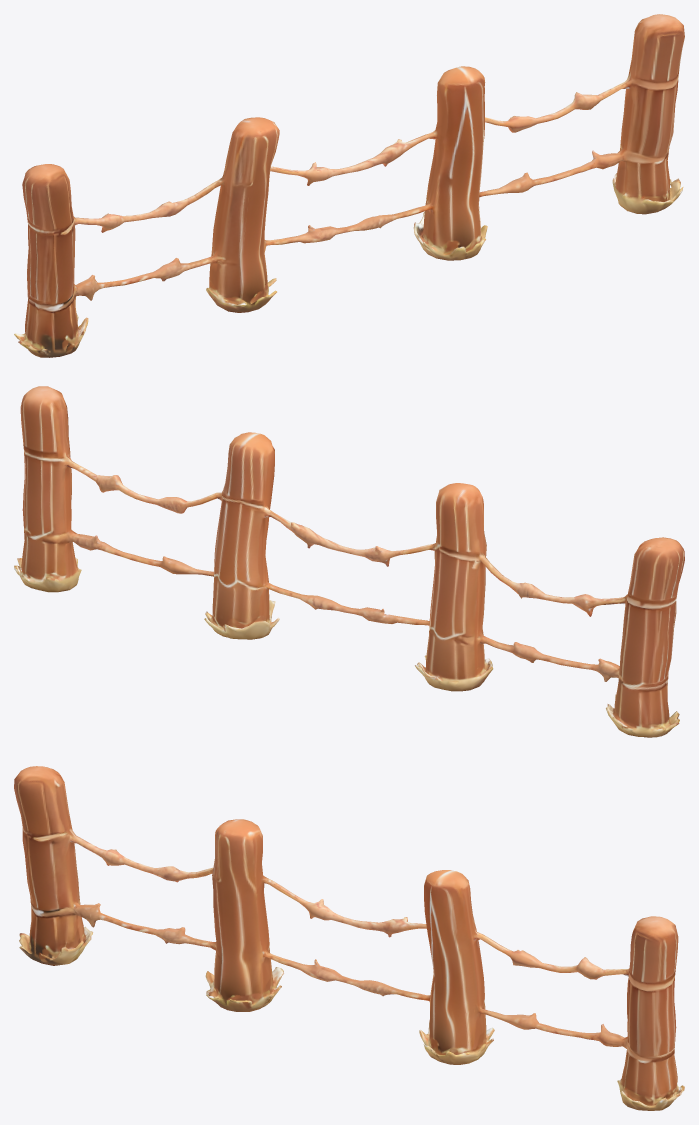
The model's file is saku_1_base_basic_shaded.glb.
3 renders of one model, top to bottom at view 1: azimuth 30°, elevation 25°; view 2: azimuth 150°, elevation 25°; view 3: azimuth 330°, elevation 25°, orthographic.
Parts seen in each view (by area): view 1: model; view 2: model; view 3: model.
Part boxes in pixels (x1,y1,x2,y2): model: (14,14,684,357); model: (14,386,684,737); model: (14,766,684,1110).
Bounding box in the file's own units: 1.9 × 0.5193 × 0.2158.
Materials: 1 (1 with a texture image).
